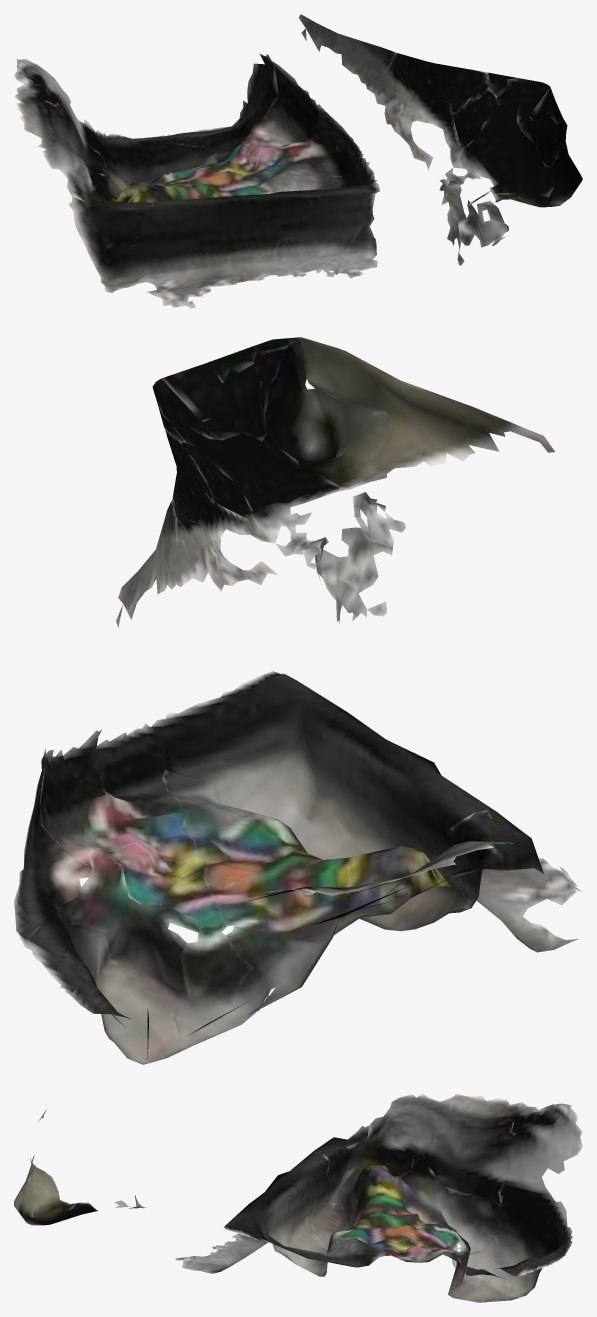
The model's file is hall.glb.
The picture shows the model from 3 angles, top to bottom: view 1: azimuth 30°, elevation 25°; view 2: azimuth 150°, elevation 25°; view 3: azimuth 270°, elevation 25°; orthographic projection. The views are drawn at different scales.
Bounding box in the file's own units: 0.6325 × 0.371 × 0.9097.
1 material, 1 textured.
